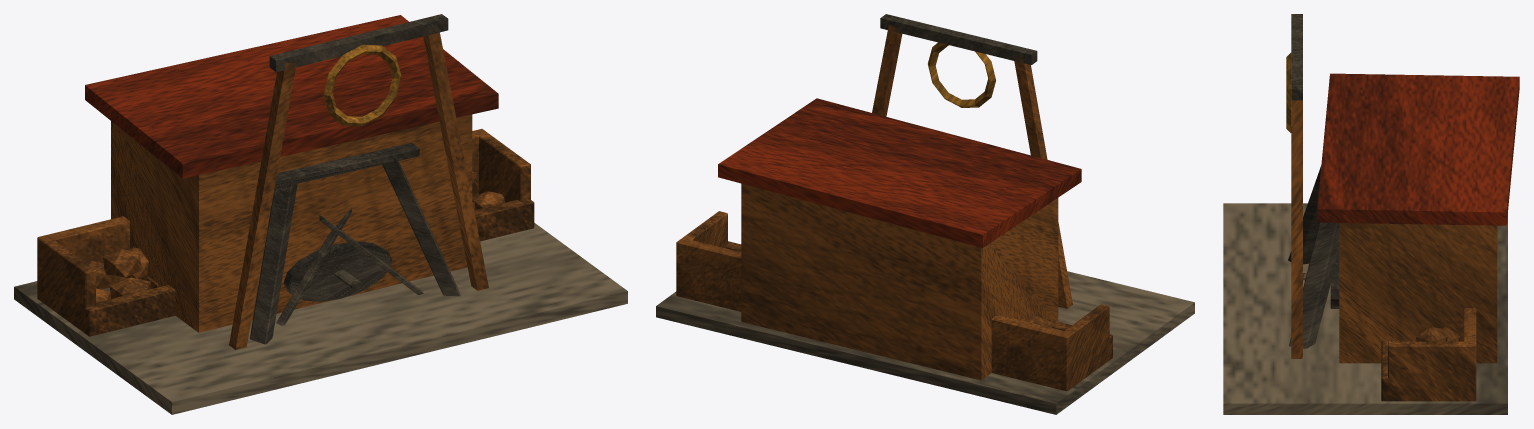
Rendered from upper-ore-cable-house.glb.
3 renders of one model, left to right at view 1: azimuth 30°, elevation 25°; view 2: azimuth 150°, elevation 25°; view 3: azimuth 270°, elevation 25°, orthographic. The views are drawn at different scales.
Visible parts, largest first — view 1: upper-ore-cable-house; view 2: upper-ore-cable-house; view 3: upper-ore-cable-house.
Part boxes in pixels (<box>): upper-ore-cable-house: <box>14,14,627,414</box>; upper-ore-cable-house: <box>656,14,1194,414</box>; upper-ore-cable-house: <box>1223,14,1519,414</box>.
Size of the model in its own units: 9 by 5.51 by 5.62.
Materials: 1 (1 with a texture image).
